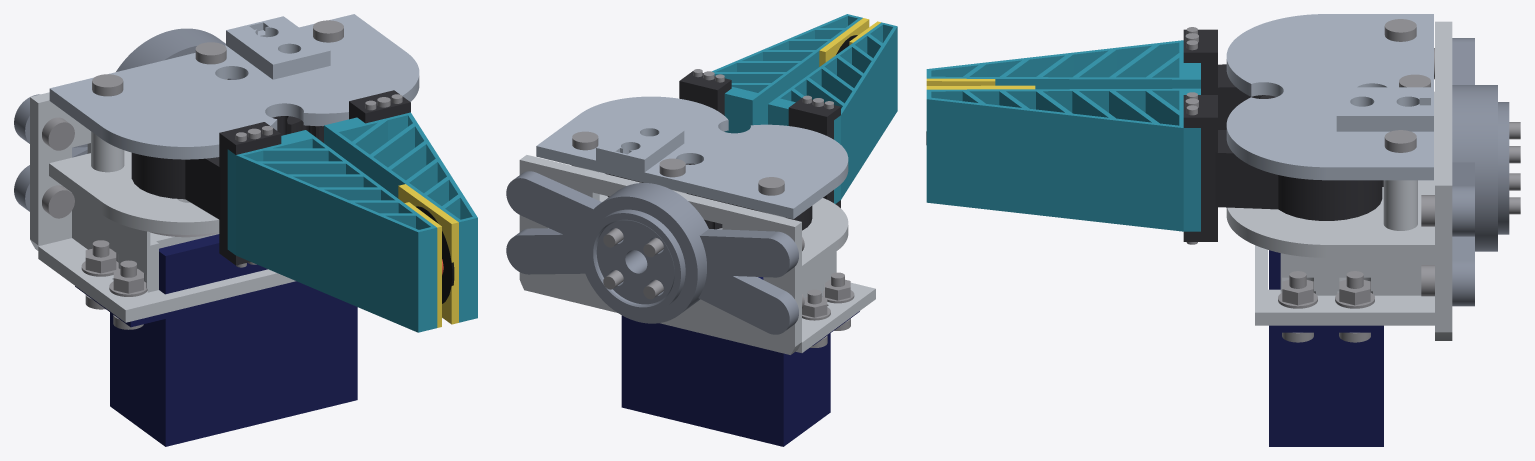
Rendered from gripper_closed.glb.
3 renders of one model, left to right at view 1: azimuth 30°, elevation 25°; view 2: azimuth 150°, elevation 25°; view 3: azimuth 270°, elevation 25°, orthographic. The views are drawn at different scales.
Visible parts, largest first — view 1: servo, front_plate, finger_a, housing, finger_b, knuckle_a, fasteners, wrist_mount, fsr_backing_b, knuckle_b, fsr_sensor_b, nail_a; view 2: wrist_mount, front_plate, servo, housing, finger_a, finger_b, fasteners, knuckle_a, knuckle_b, fsr_backing_b; view 3: finger_b, front_plate, housing, servo, wrist_mount, knuckle_b, finger_a, fasteners, knuckle_a.
Boxes of the visible parts, x1,y1,x2,y2 form: servo: (75, 234, 357, 446); front_plate: (49, 14, 419, 159); finger_a: (227, 130, 437, 332); housing: (30, 79, 295, 322); finger_b: (324, 112, 477, 322); knuckle_a: (131, 122, 281, 265); fasteners: (42, 20, 343, 329); wrist_mount: (14, 28, 238, 211); fsr_backing_b: (398, 184, 458, 324); knuckle_b: (272, 90, 410, 142); fsr_sensor_b: (416, 206, 454, 303); nail_a: (404, 202, 441, 327); wrist_mount: (506, 171, 798, 334); front_plate: (536, 96, 848, 219); servo: (621, 277, 859, 446); housing: (519, 155, 875, 354); finger_a: (768, 22, 897, 203); finger_b: (712, 14, 862, 133); fasteners: (572, 131, 854, 347); knuckle_a: (693, 97, 840, 230); knuckle_b: (605, 71, 731, 197); fsr_backing_b: (819, 18, 869, 66); finger_b: (926, 88, 1200, 231); front_plate: (1226, 14, 1433, 180); housing: (1226, 21, 1452, 340); servo: (1269, 250, 1383, 446); wrist_mount: (1452, 38, 1509, 306); knuckle_b: (1183, 95, 1383, 241); finger_a: (926, 40, 1200, 89); fasteners: (1278, 19, 1520, 342); knuckle_a: (1183, 29, 1275, 129).
Size of the model in its own units: 70 by 65.75 by 104.
